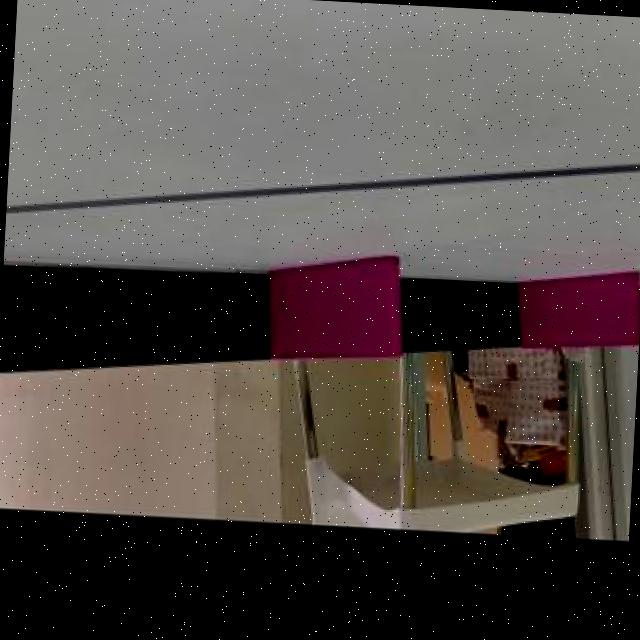xparking: (275, 254, 400, 358), (524, 272, 640, 351)
